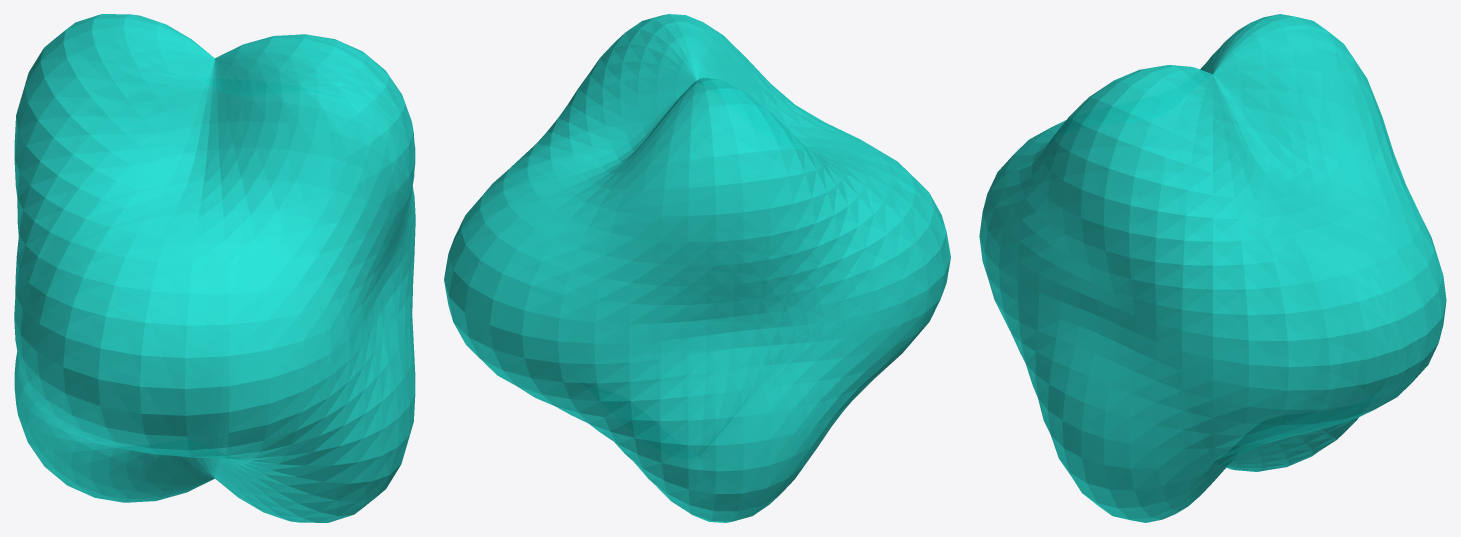
The model's file is liquid_agent.obj.
3 views of the same model, side by side, from view 1: azimuth 30°, elevation 25°; view 2: azimuth 150°, elevation 25°; view 3: azimuth 270°, elevation 25° (orthographic). The views are drawn at different scales.
Visible parts, largest first — view 1: liquid_agent; view 2: liquid_agent; view 3: liquid_agent.
Part boxes in pixels (x1,y1,x2,y2): liquid_agent: [14, 14, 415, 522]; liquid_agent: [444, 14, 950, 522]; liquid_agent: [979, 14, 1446, 522].
Size of the model in its own units: 2.18 by 2.29 by 2.18.
